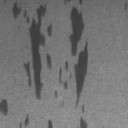red iron: (12, 2, 52, 99), (59, 0, 88, 112), (19, 114, 29, 128), (0, 99, 8, 116), (80, 117, 88, 128), (48, 120, 53, 128), (64, 0, 71, 5), (54, 90, 58, 98), (124, 3, 128, 10)
